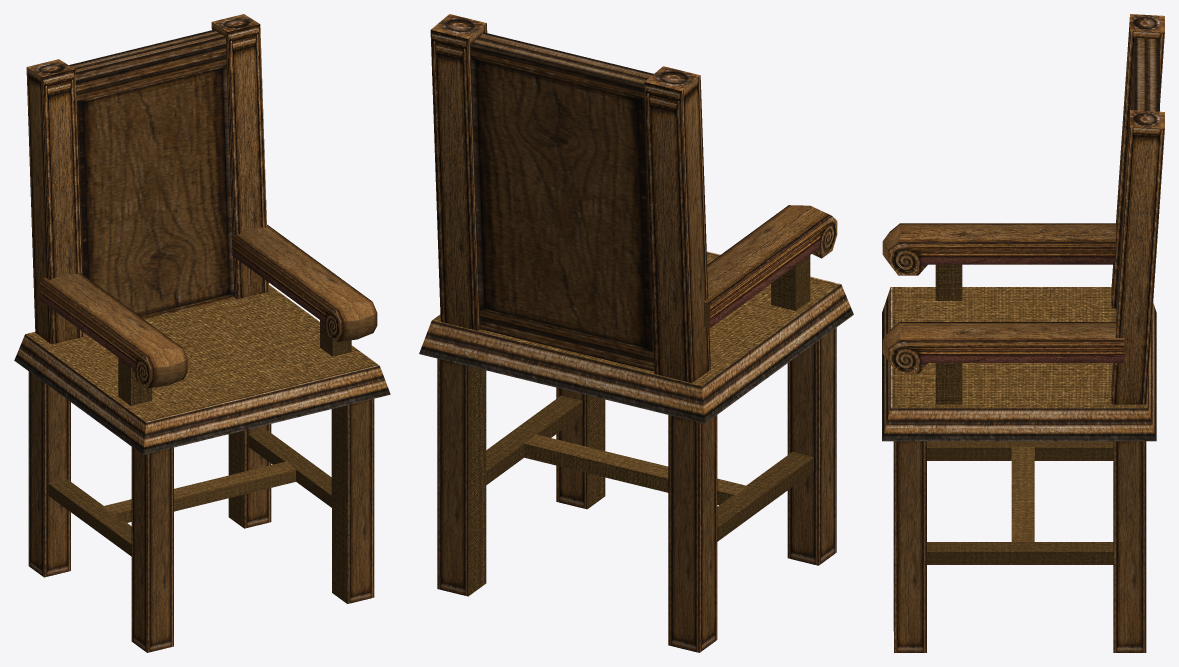
File: mm9_deco_chairdesk01.glb
3 views of the same model, side by side, from view 1: azimuth 30°, elevation 25°; view 2: azimuth 150°, elevation 25°; view 3: azimuth 270°, elevation 25° (orthographic). The views are drawn at different scales.
Visible parts, largest first — view 1: Chairdesk01; view 2: Chairdesk01; view 3: Chairdesk01.
Part boxes in pixels (x1=…): Chairdesk01: x1=14, y1=14, x2=390, y2=652; Chairdesk01: x1=419, y1=14, x2=853, y2=652; Chairdesk01: x1=882, y1=14, x2=1164, y2=652.
Bounding box in the file's own units: 0.7627 × 1.45 × 0.7092.
2 materials, 2 textured.
